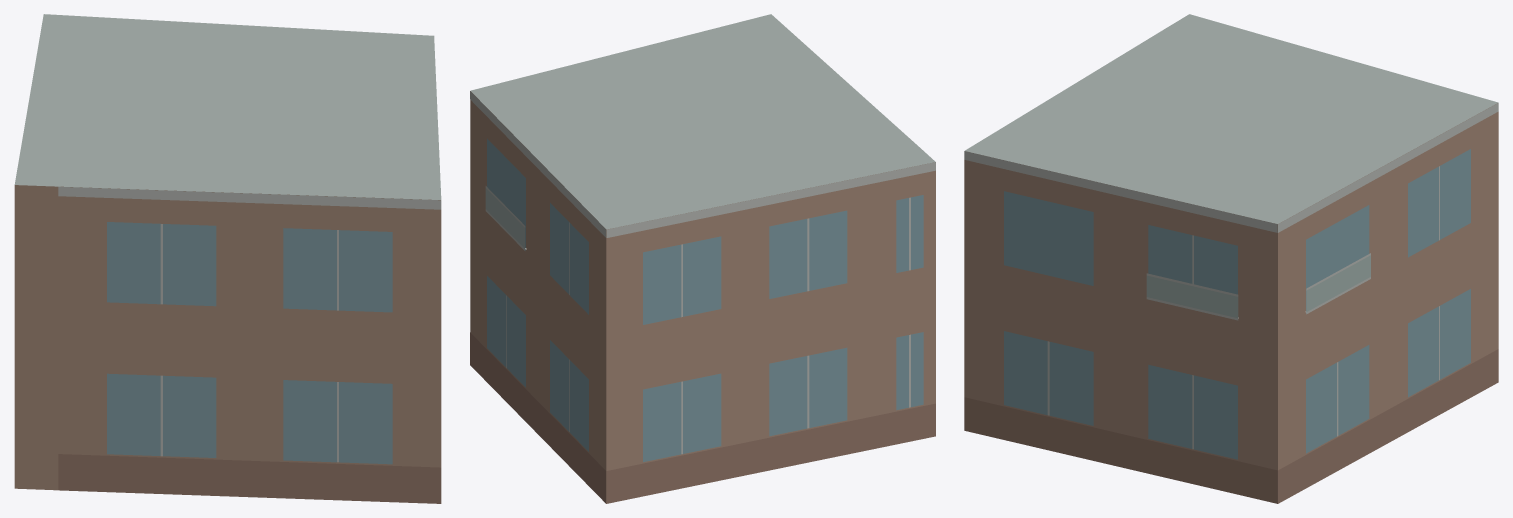
Rendered from survey-upis-32480784.glb.
3 views of the same model, side by side, from view 1: azimuth 30°, elevation 25°; view 2: azimuth 150°, elevation 25°; view 3: azimuth 270°, elevation 25° (orthographic). The views are drawn at different scales.
Visible parts, largest first — view 1: survey-upis-32480784.tmp; view 2: survey-upis-32480784.tmp; view 3: survey-upis-32480784.tmp.
Part boxes in pixels (x1=…): survey-upis-32480784.tmp: x1=14, y1=14, x2=441, y2=503; survey-upis-32480784.tmp: x1=470, y1=14, x2=935, y2=503; survey-upis-32480784.tmp: x1=964, y1=14, x2=1498, y2=503.
Size of the model in its own units: 12.41 by 7.7 by 13.34.
